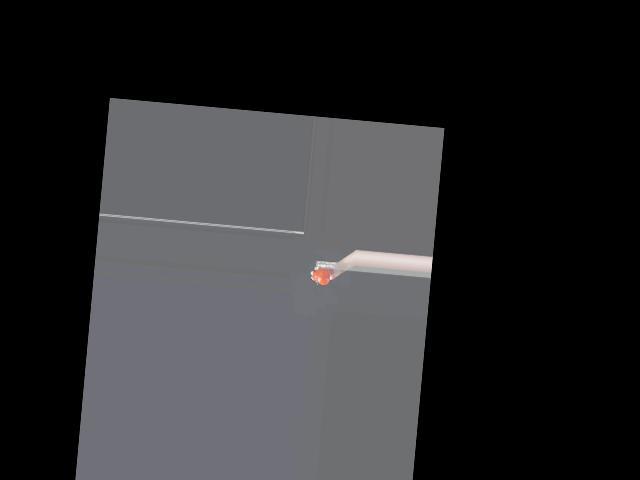tomato: (311, 266, 331, 285)
